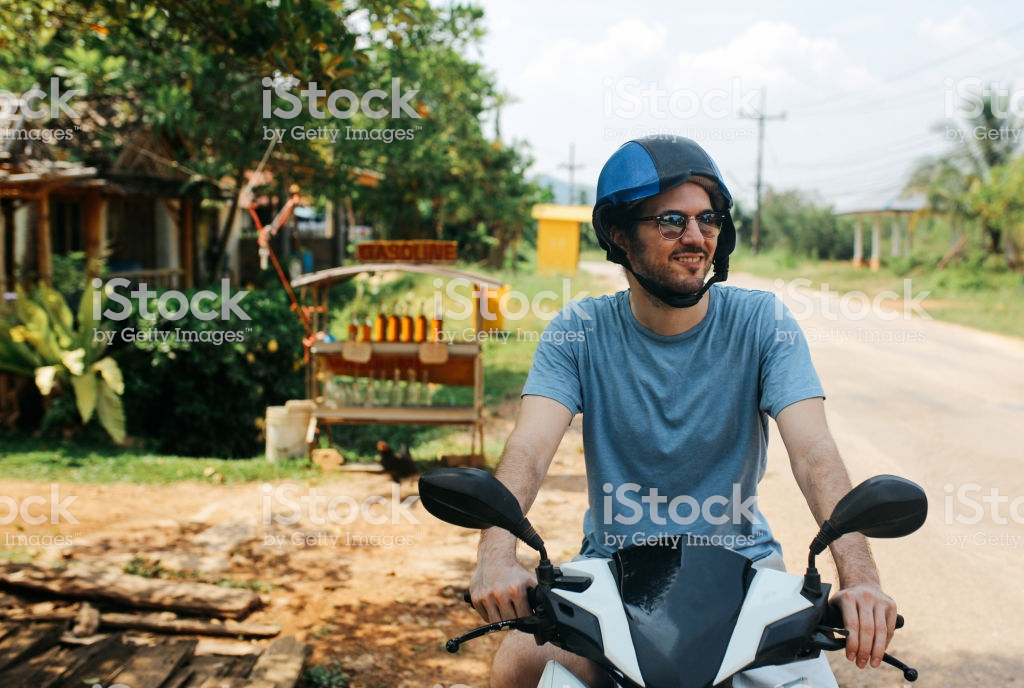helmet: (585, 131, 738, 223)
